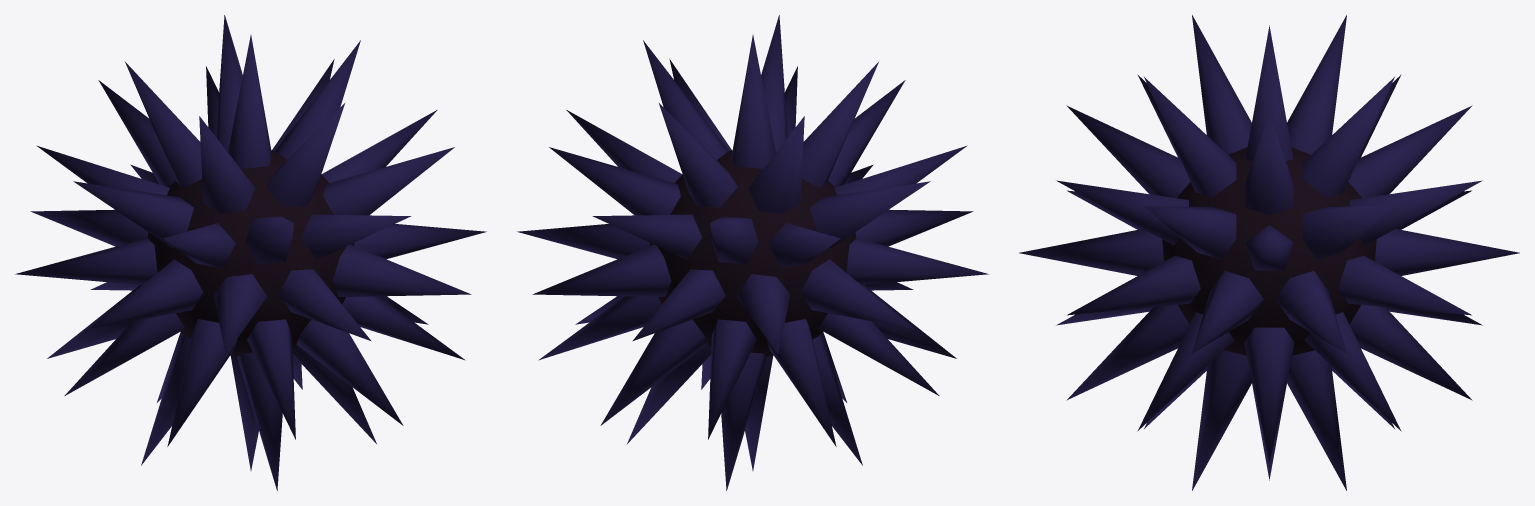
The model's file is Sea Urchin.fbx.
3 renders of one model, left to right at view 1: azimuth 30°, elevation 25°; view 2: azimuth 150°, elevation 25°; view 3: azimuth 270°, elevation 25°, orthographic. The views are drawn at different scales.
Visible parts, largest first — view 1: GeoSphere001; view 2: GeoSphere001; view 3: GeoSphere001.
Part boxes in pixels (x1,y1,x2,y2): GeoSphere001: [15, 15, 486, 490]; GeoSphere001: [517, 15, 988, 490]; GeoSphere001: [1019, 15, 1519, 490].
Bounding box in the file's own units: 8.14 × 8.56 × 8.56.
